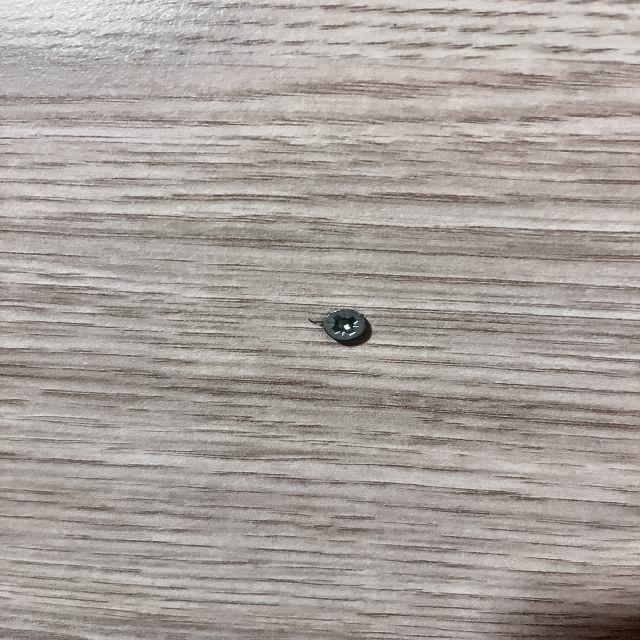pozidriv: (323, 310, 366, 342)
